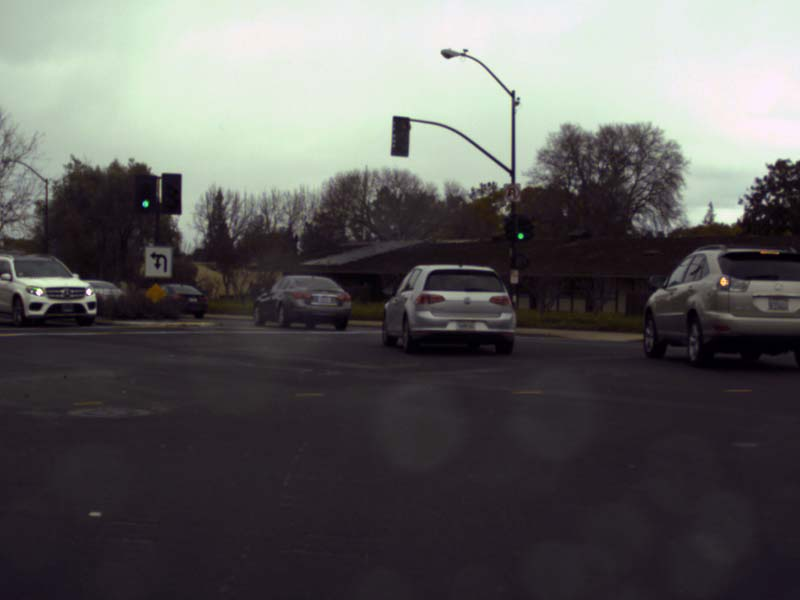Green: (137, 177, 156, 212), (514, 214, 527, 242)
Red: (162, 173, 181, 213), (393, 115, 408, 156)
